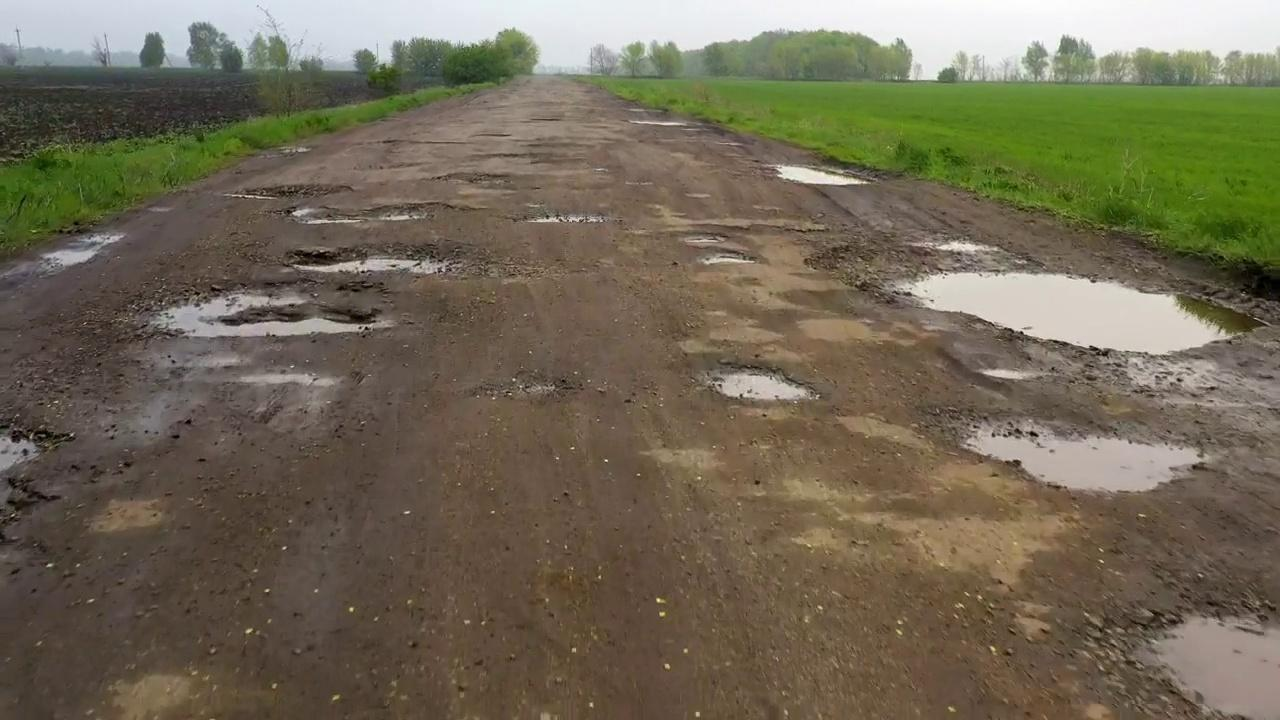bache: (895, 269, 1270, 356), (965, 419, 1208, 494), (1138, 608, 1279, 719), (163, 281, 388, 336), (287, 243, 487, 279), (704, 364, 817, 401), (282, 202, 439, 224), (222, 184, 353, 200), (686, 246, 760, 268), (505, 211, 612, 223), (671, 231, 729, 243)
